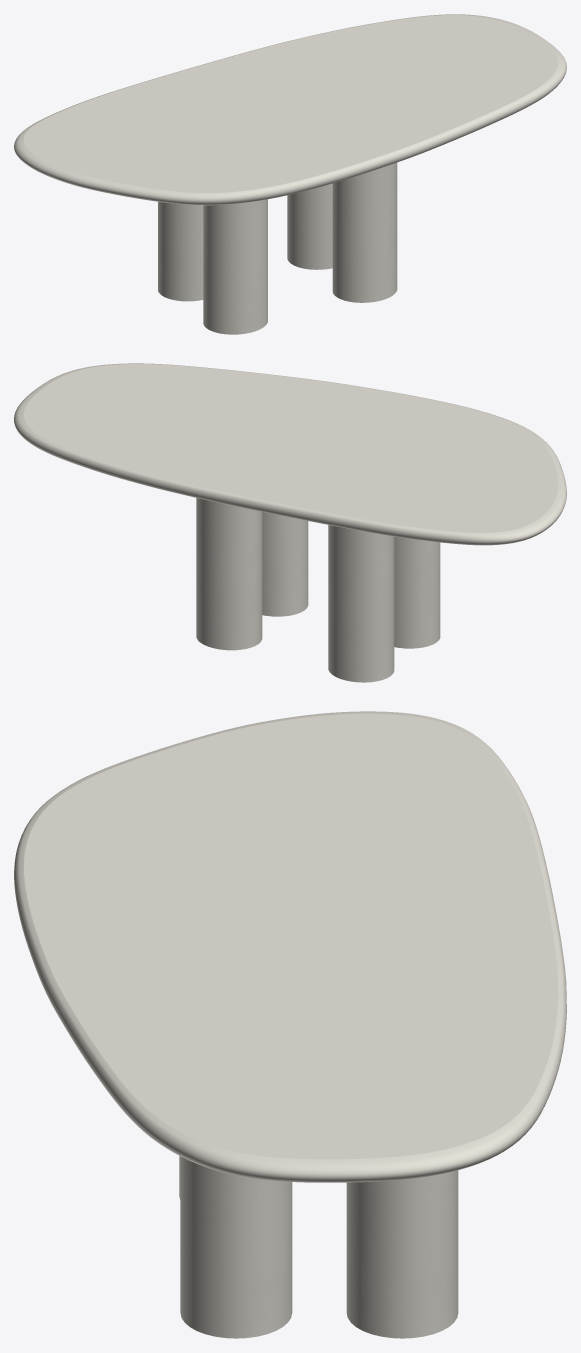
The model's file is pale_leaf2_round_grove.glb.
The picture shows the model from 3 angles, top to bottom: view 1: azimuth 30°, elevation 25°; view 2: azimuth 150°, elevation 25°; view 3: azimuth 270°, elevation 25°; orthographic projection. The views are drawn at different scales.
Parts seen in each view (by area): view 1: round_leaf2, grove; view 2: round_leaf2, grove; view 3: round_leaf2, grove.
Boxes of the visible parts, x1,y1,x2,y2 form: round_leaf2: (14,14,566,205); grove: (158,162,397,334); round_leaf2: (14,363,566,545); grove: (196,498,440,682); round_leaf2: (14,711,566,1182); grove: (179,1156,458,1338).
Size of the model in its own units: 7.5 by 2.53 by 3.8.
1 material, 1 textured.
